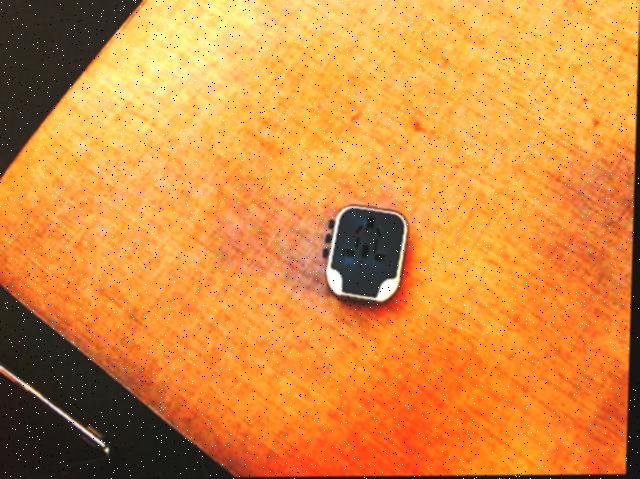adapter: (322, 204, 410, 304)
